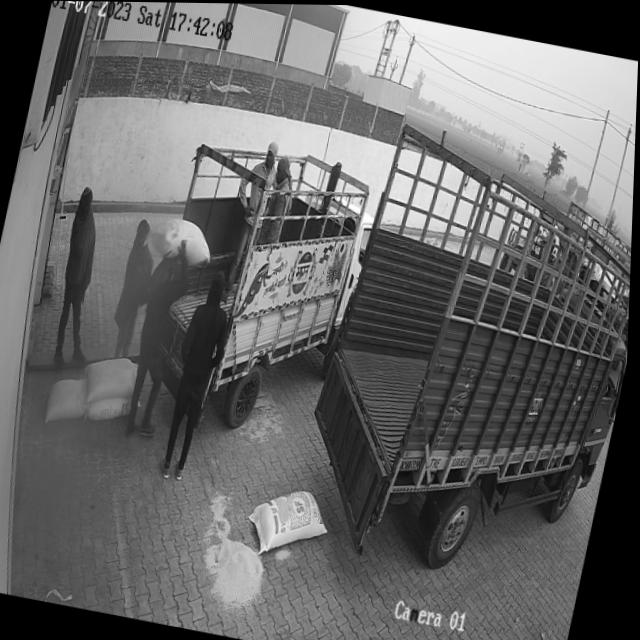sack: (244, 479, 338, 564), (148, 211, 218, 269), (84, 350, 143, 409), (45, 372, 94, 427), (88, 389, 133, 427)
